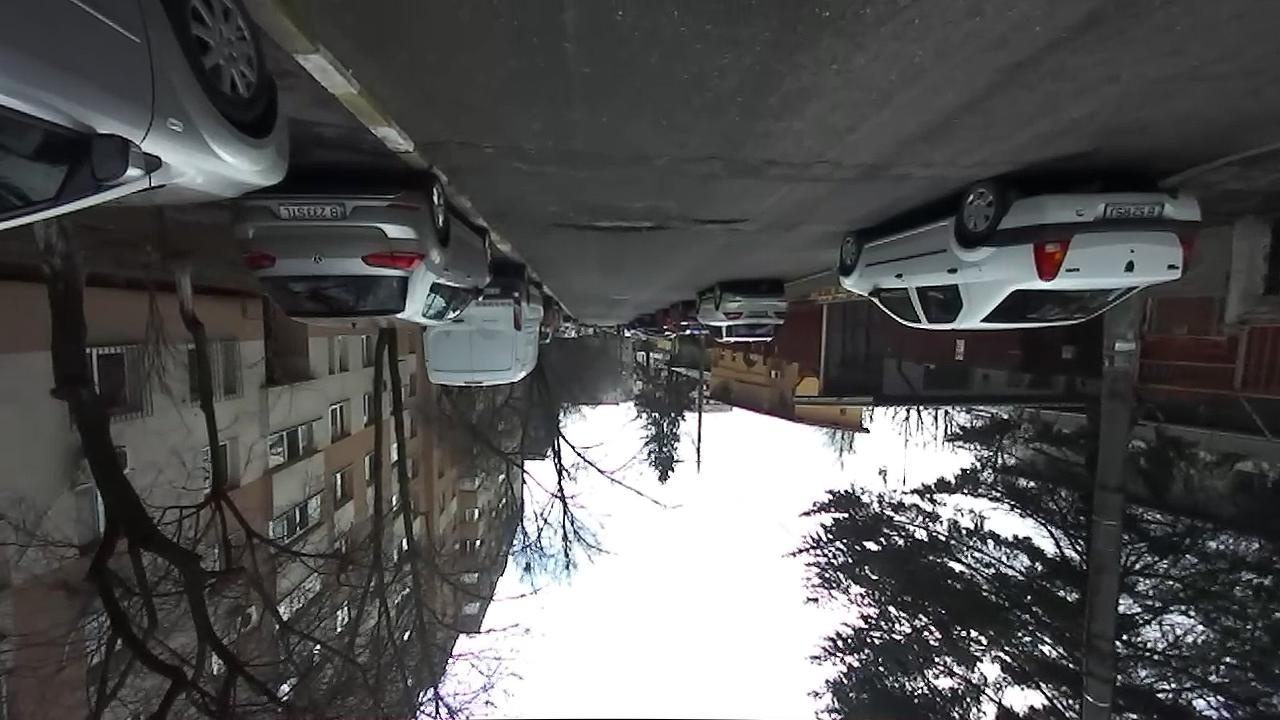pothole: (548, 214, 673, 235), (687, 213, 750, 226)
